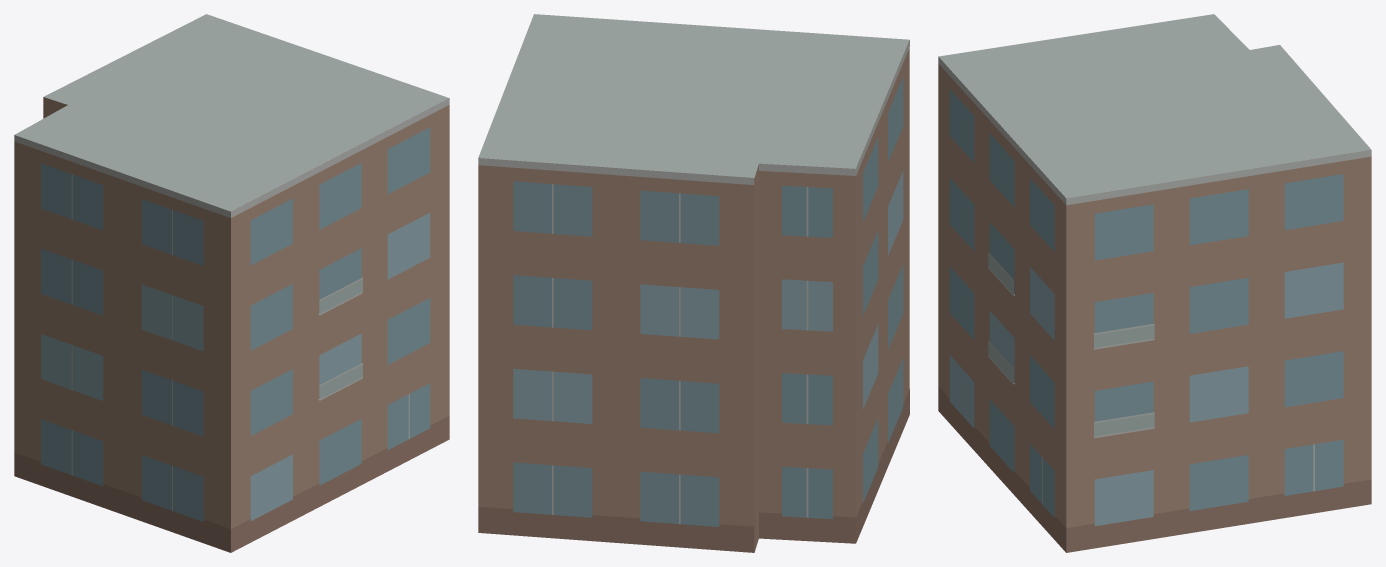
Rendered from survey-upis-32998759.glb.
3 renders of one model, left to right at view 1: azimuth 30°, elevation 25°; view 2: azimuth 150°, elevation 25°; view 3: azimuth 270°, elevation 25°, orthographic. The views are drawn at different scales.
Visible parts, largest first — view 1: survey-upis-32998759.tmp; view 2: survey-upis-32998759.tmp; view 3: survey-upis-32998759.tmp.
Part boxes in pixels (x1=…): survey-upis-32998759.tmp: x1=14, y1=14, x2=449, y2=552; survey-upis-32998759.tmp: x1=478, y1=14, x2=909, y2=552; survey-upis-32998759.tmp: x1=938, y1=14, x2=1371, y2=552.
Size of the model in its own units: 14.31 by 12.8 by 14.2.
